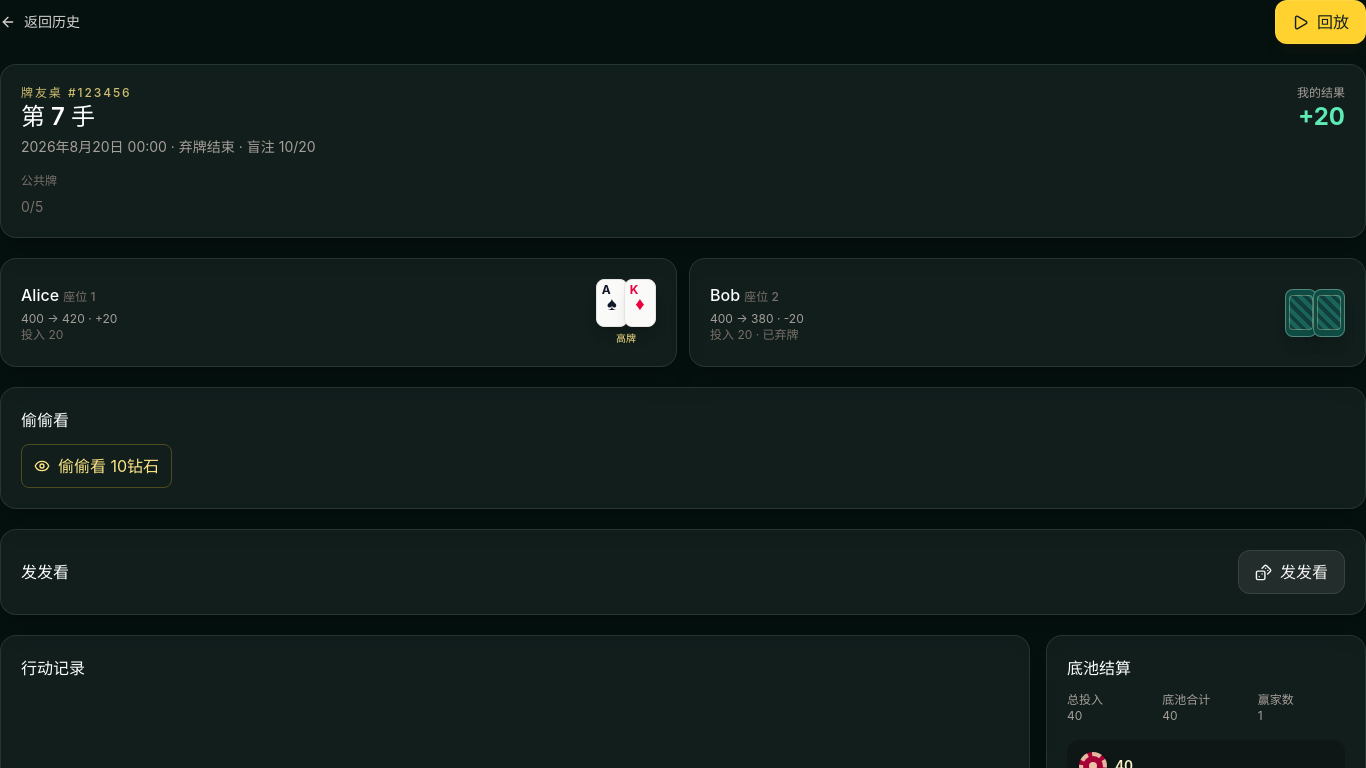
it: HandDetailPage paid reveal › shows only an insufficient-balance dialog when local diamonds are too low
Click the button "偷偷看 10钻石" at (97, 466), box [21,444,172,488]
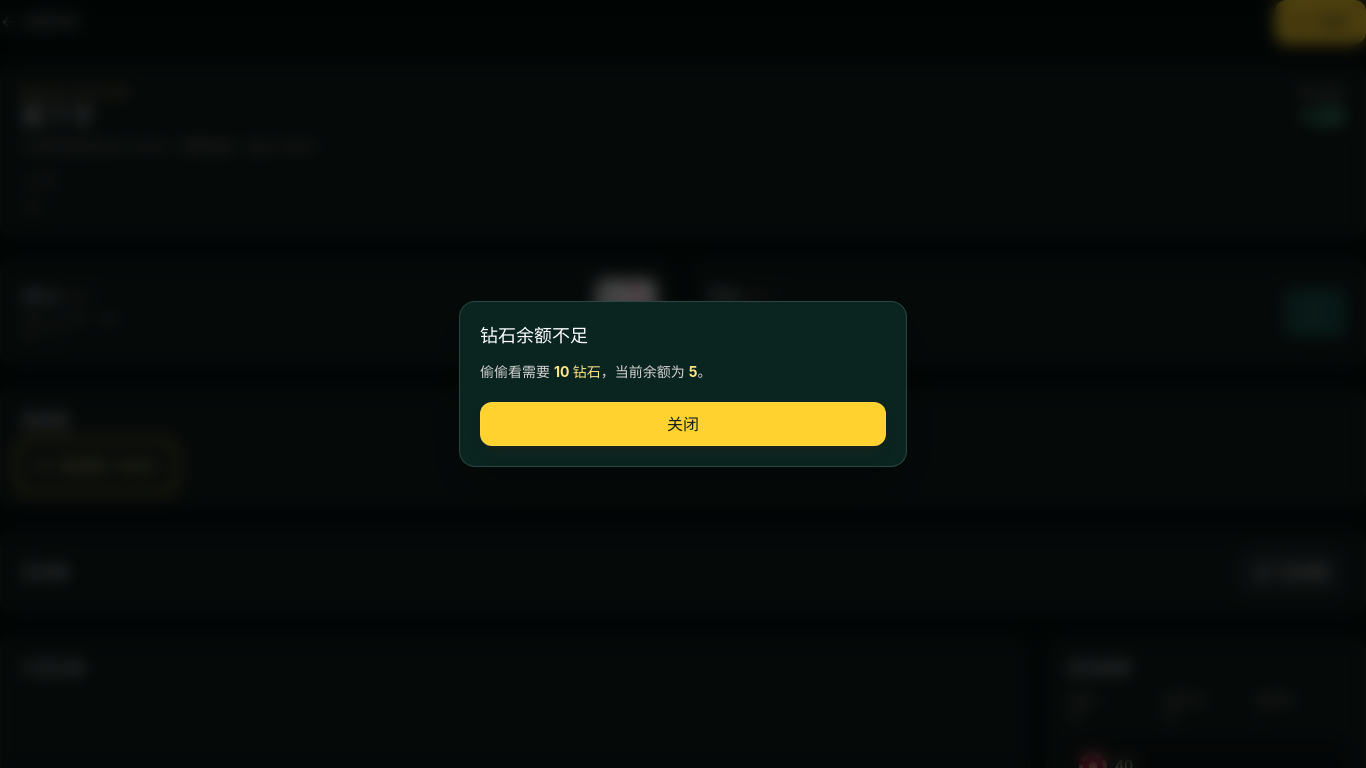
Check: the dialog "钻石余额不足" is shown
